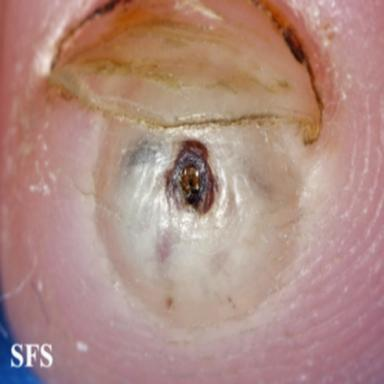Tungiasis: (95, 117, 305, 327)
